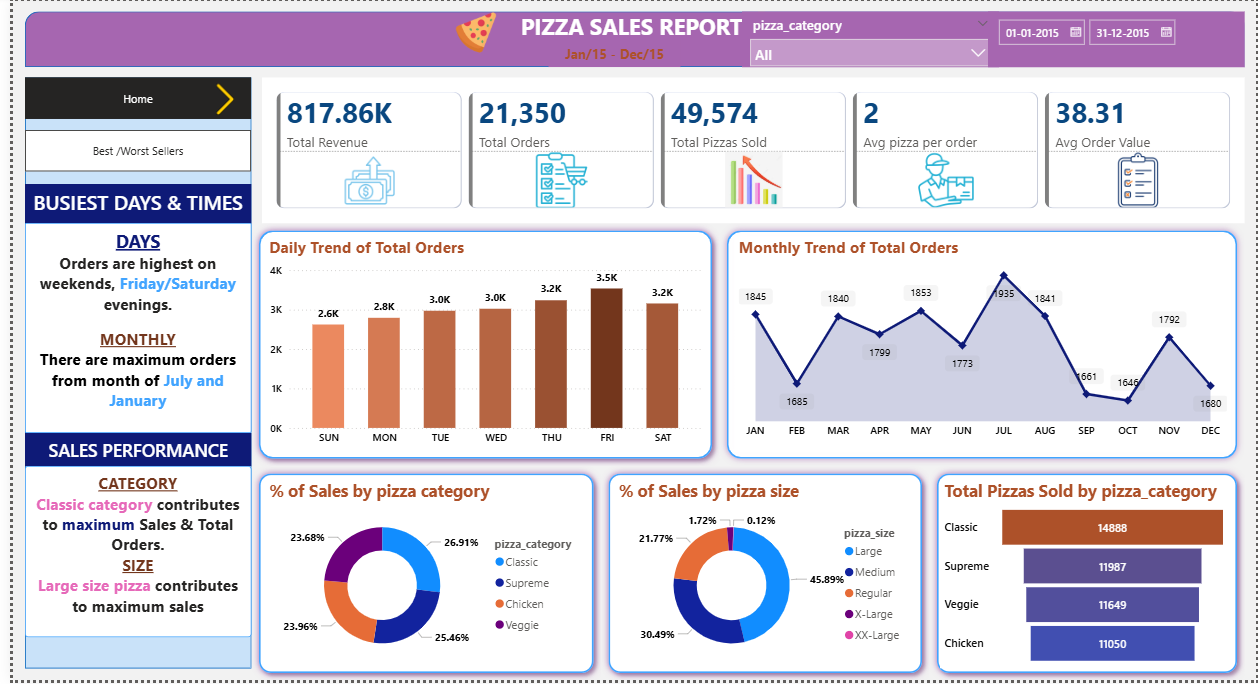

The dashboard page shown, as its layout file describes it:
{"tool":"powerbi","page":{"name":"Home","canvas":[1500,820],"ordinal":0},"visuals":[{"type":"shape","box":[14.5,92.4,273.5,713.7],"z":0},{"type":"cardVisual","fields":{"Data":["pizza_sales.Total Revenue","pizza_sales.Total Orders","pizza_sales.Total Pizzas Sold","pizza_sales.Avg pizza per order","pizza_sales.Avg Order Value"]},"box":[300.7,92.4,1186.6,175.7],"z":1000},{"type":"shape","box":[14.5,12.7,1472.8,67],"z":2000},{"type":"textbox","box":[590.6,7.2,322.5,39.9],"z":3000},{"type":"textbox","box":[646.7,47.1,159.4,32.6],"z":4000},{"type":"image","box":[527.2,12.7,63.4,50.7],"z":5000},{"type":"shape","box":[288,268.1,565.2,293.5],"z":6000},{"type":"columnChart","title":"Daily Trend of Total Orders","fields":{"Category":["pizza_sales.Order_day"],"Y":["pizza_sales.Total Orders"]},"box":[304.3,284.4,532.6,260.9],"z":7000},{"type":"shape","box":[853.2,268.1,634,293.5],"z":8000},{"type":"areaChart","title":"Monthly Trend of Total Orders ","fields":{"Category":["pizza_sales.Order_month"],"Y":["pizza_sales.Total Orders"]},"box":[871.3,284.4,599.6,260.9],"z":9000},{"type":"shape","box":[288,561.6,422.1,259],"z":10000},{"type":"shape","box":[710.1,561.6,396.7,259],"z":11000},{"type":"shape","box":[1106.8,561.6,380.4,259],"z":12000},{"type":"donutChart","title":"% of Sales by pizza category","fields":{"Category":["pizza_sales.pizza_category"],"Y":["pizza_sales.Total Revenue"]},"box":[304.3,577.9,391.3,228.3],"z":13000},{"type":"donutChart","title":"% of Sales by pizza size","fields":{"Y":["pizza_sales.Total Revenue"],"Category":["pizza_sales.pizza_size"]},"box":[726.4,577.9,362.3,228.3],"z":14000},{"type":"funnel","fields":{"Category":["pizza_sales.pizza_category"],"Y":["pizza_sales.Total Pizzas Sold"]},"box":[1119.5,577.9,351.4,228.3],"z":15000},{"type":"textbox","box":[14.5,221,273.5,47.1],"z":16000},{"type":"textbox","box":[14.5,268.1,273.5,253.6],"z":17000},{"type":"textbox","box":[14.5,521.7,273.5,39.9],"z":18000},{"type":"textbox","box":[14.5,561.6,273.5,206.5],"z":19000},{"type":"slicer","fields":{"Values":["pizza_sales.pizza_category"]},"box":[880.4,12.7,309.8,67],"z":20000},{"type":"slicer","fields":{"Values":["pizza_sales.order_date"]},"box":[1177.5,12.7,309.8,67],"z":21000},{"type":"pageNavigator","box":[14.5,92.4,273.5,50.7],"z":22000},{"type":"pageNavigator","box":[14.5,155.8,273.5,50.7],"z":23000},{"type":"image","box":[224.6,99.6,63.4,38],"z":24000}]}

Visuals, with their boxes in screenshot pixels (x1, y1, x2, y2), scaled from the page's 1500x820 canvas onto the 1258x684 screenshot:
shape: [left=12, top=77, right=242, bottom=672]
cardVisual - pizza_sales.Total Revenue x pizza_sales.Total Orders: [left=252, top=77, right=1247, bottom=224]
shape: [left=12, top=11, right=1247, bottom=66]
textbox: [left=495, top=6, right=766, bottom=39]
textbox: [left=542, top=39, right=676, bottom=66]
image: [left=442, top=11, right=495, bottom=53]
shape: [left=242, top=224, right=716, bottom=468]
"Daily Trend of Total Orders" columnChart: [left=255, top=237, right=702, bottom=455]
shape: [left=716, top=224, right=1247, bottom=468]
"Monthly Trend of Total Orders " areaChart: [left=731, top=237, right=1234, bottom=455]
shape: [left=242, top=468, right=596, bottom=683]
shape: [left=596, top=468, right=928, bottom=683]
shape: [left=928, top=468, right=1247, bottom=683]
"% of Sales by pizza category" donutChart: [left=255, top=482, right=583, bottom=672]
"% of Sales by pizza size" donutChart: [left=609, top=482, right=913, bottom=672]
funnel - pizza_sales.pizza_category x pizza_sales.Total Pizzas Sold: [left=939, top=482, right=1234, bottom=672]
textbox: [left=12, top=184, right=242, bottom=224]
textbox: [left=12, top=224, right=242, bottom=435]
textbox: [left=12, top=435, right=242, bottom=468]
textbox: [left=12, top=468, right=242, bottom=641]
slicer - pizza_sales.pizza_category: [left=738, top=11, right=998, bottom=66]
slicer - pizza_sales.order_date: [left=988, top=11, right=1247, bottom=66]
pageNavigator: [left=12, top=77, right=242, bottom=119]
pageNavigator: [left=12, top=130, right=242, bottom=172]
image: [left=188, top=83, right=242, bottom=115]
